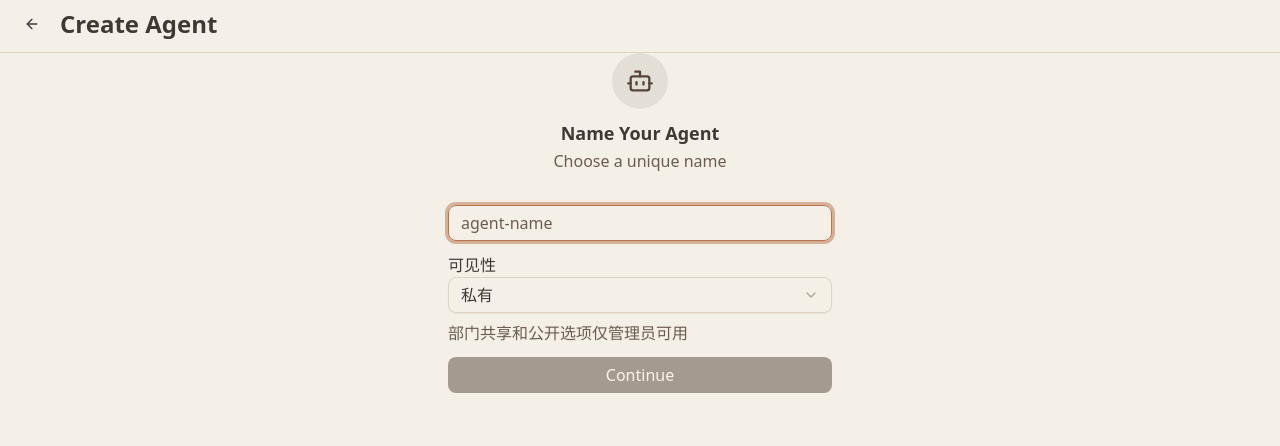
Test: NewAgentPage › handleConfirmName validation › invalid name format (with spaces) shows error
This screenshot has width=1280, height=446.
Type "invalid name" into the field with placeholder "agent-name" at {"x": 640, "y": 223}, box [448,205,832,241]
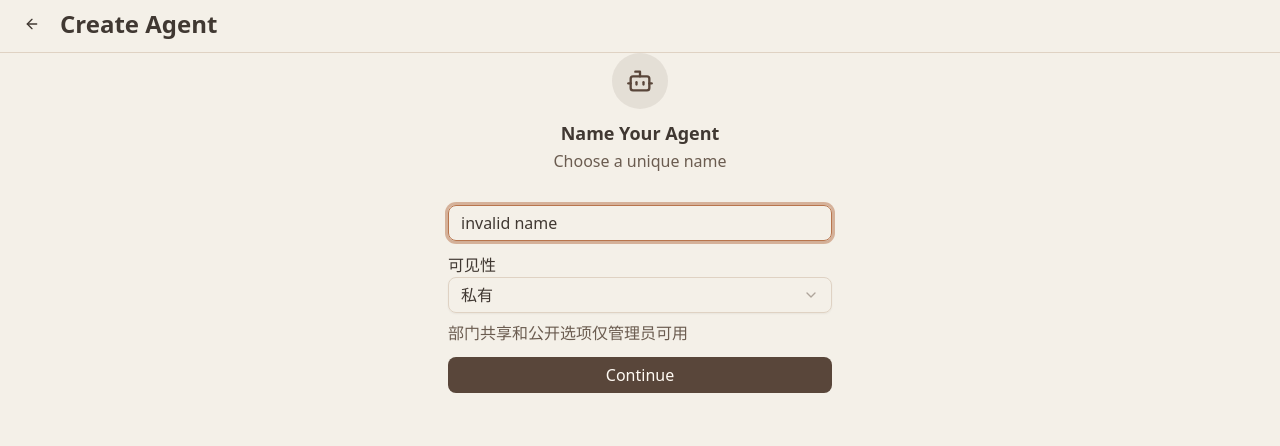
Click the button "Continue" at {"x": 640, "y": 375}, box [448,357,832,393]
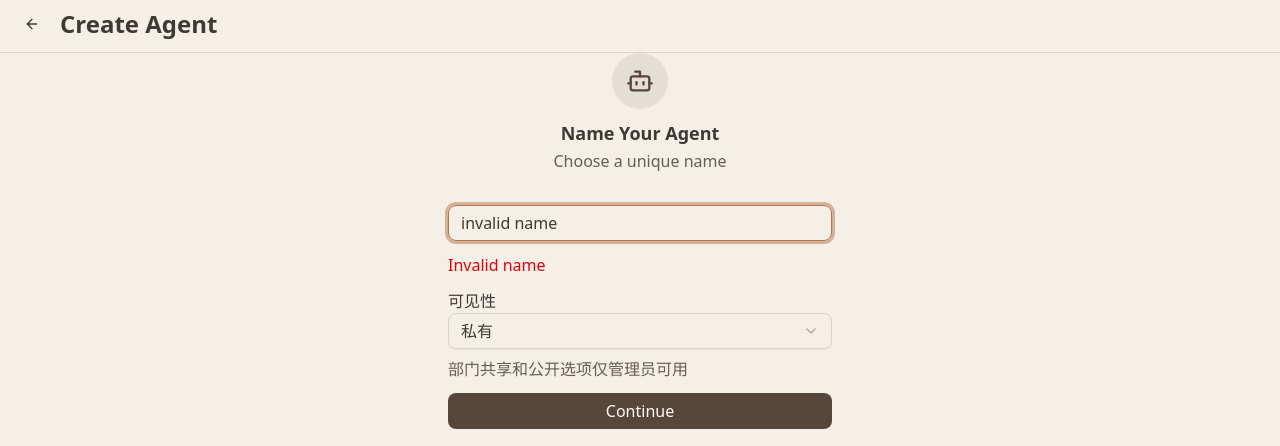
Now the text "Invalid name" is shown, box [448,254,546,276]
